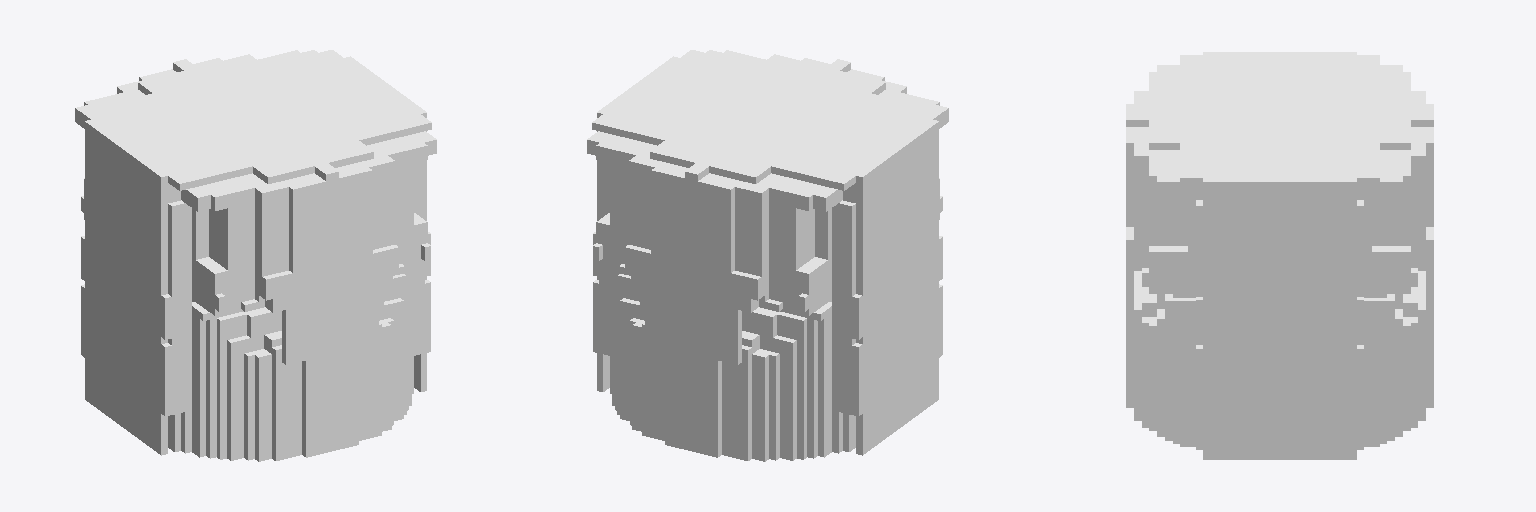
The model's file is groundtopspike.obj.
3 renders of one model, left to right at view 1: azimuth 30°, elevation 25°; view 2: azimuth 150°, elevation 25°; view 3: azimuth 270°, elevation 25°, orthographic.
Size of the model in its own units: 40 by 40 by 40.